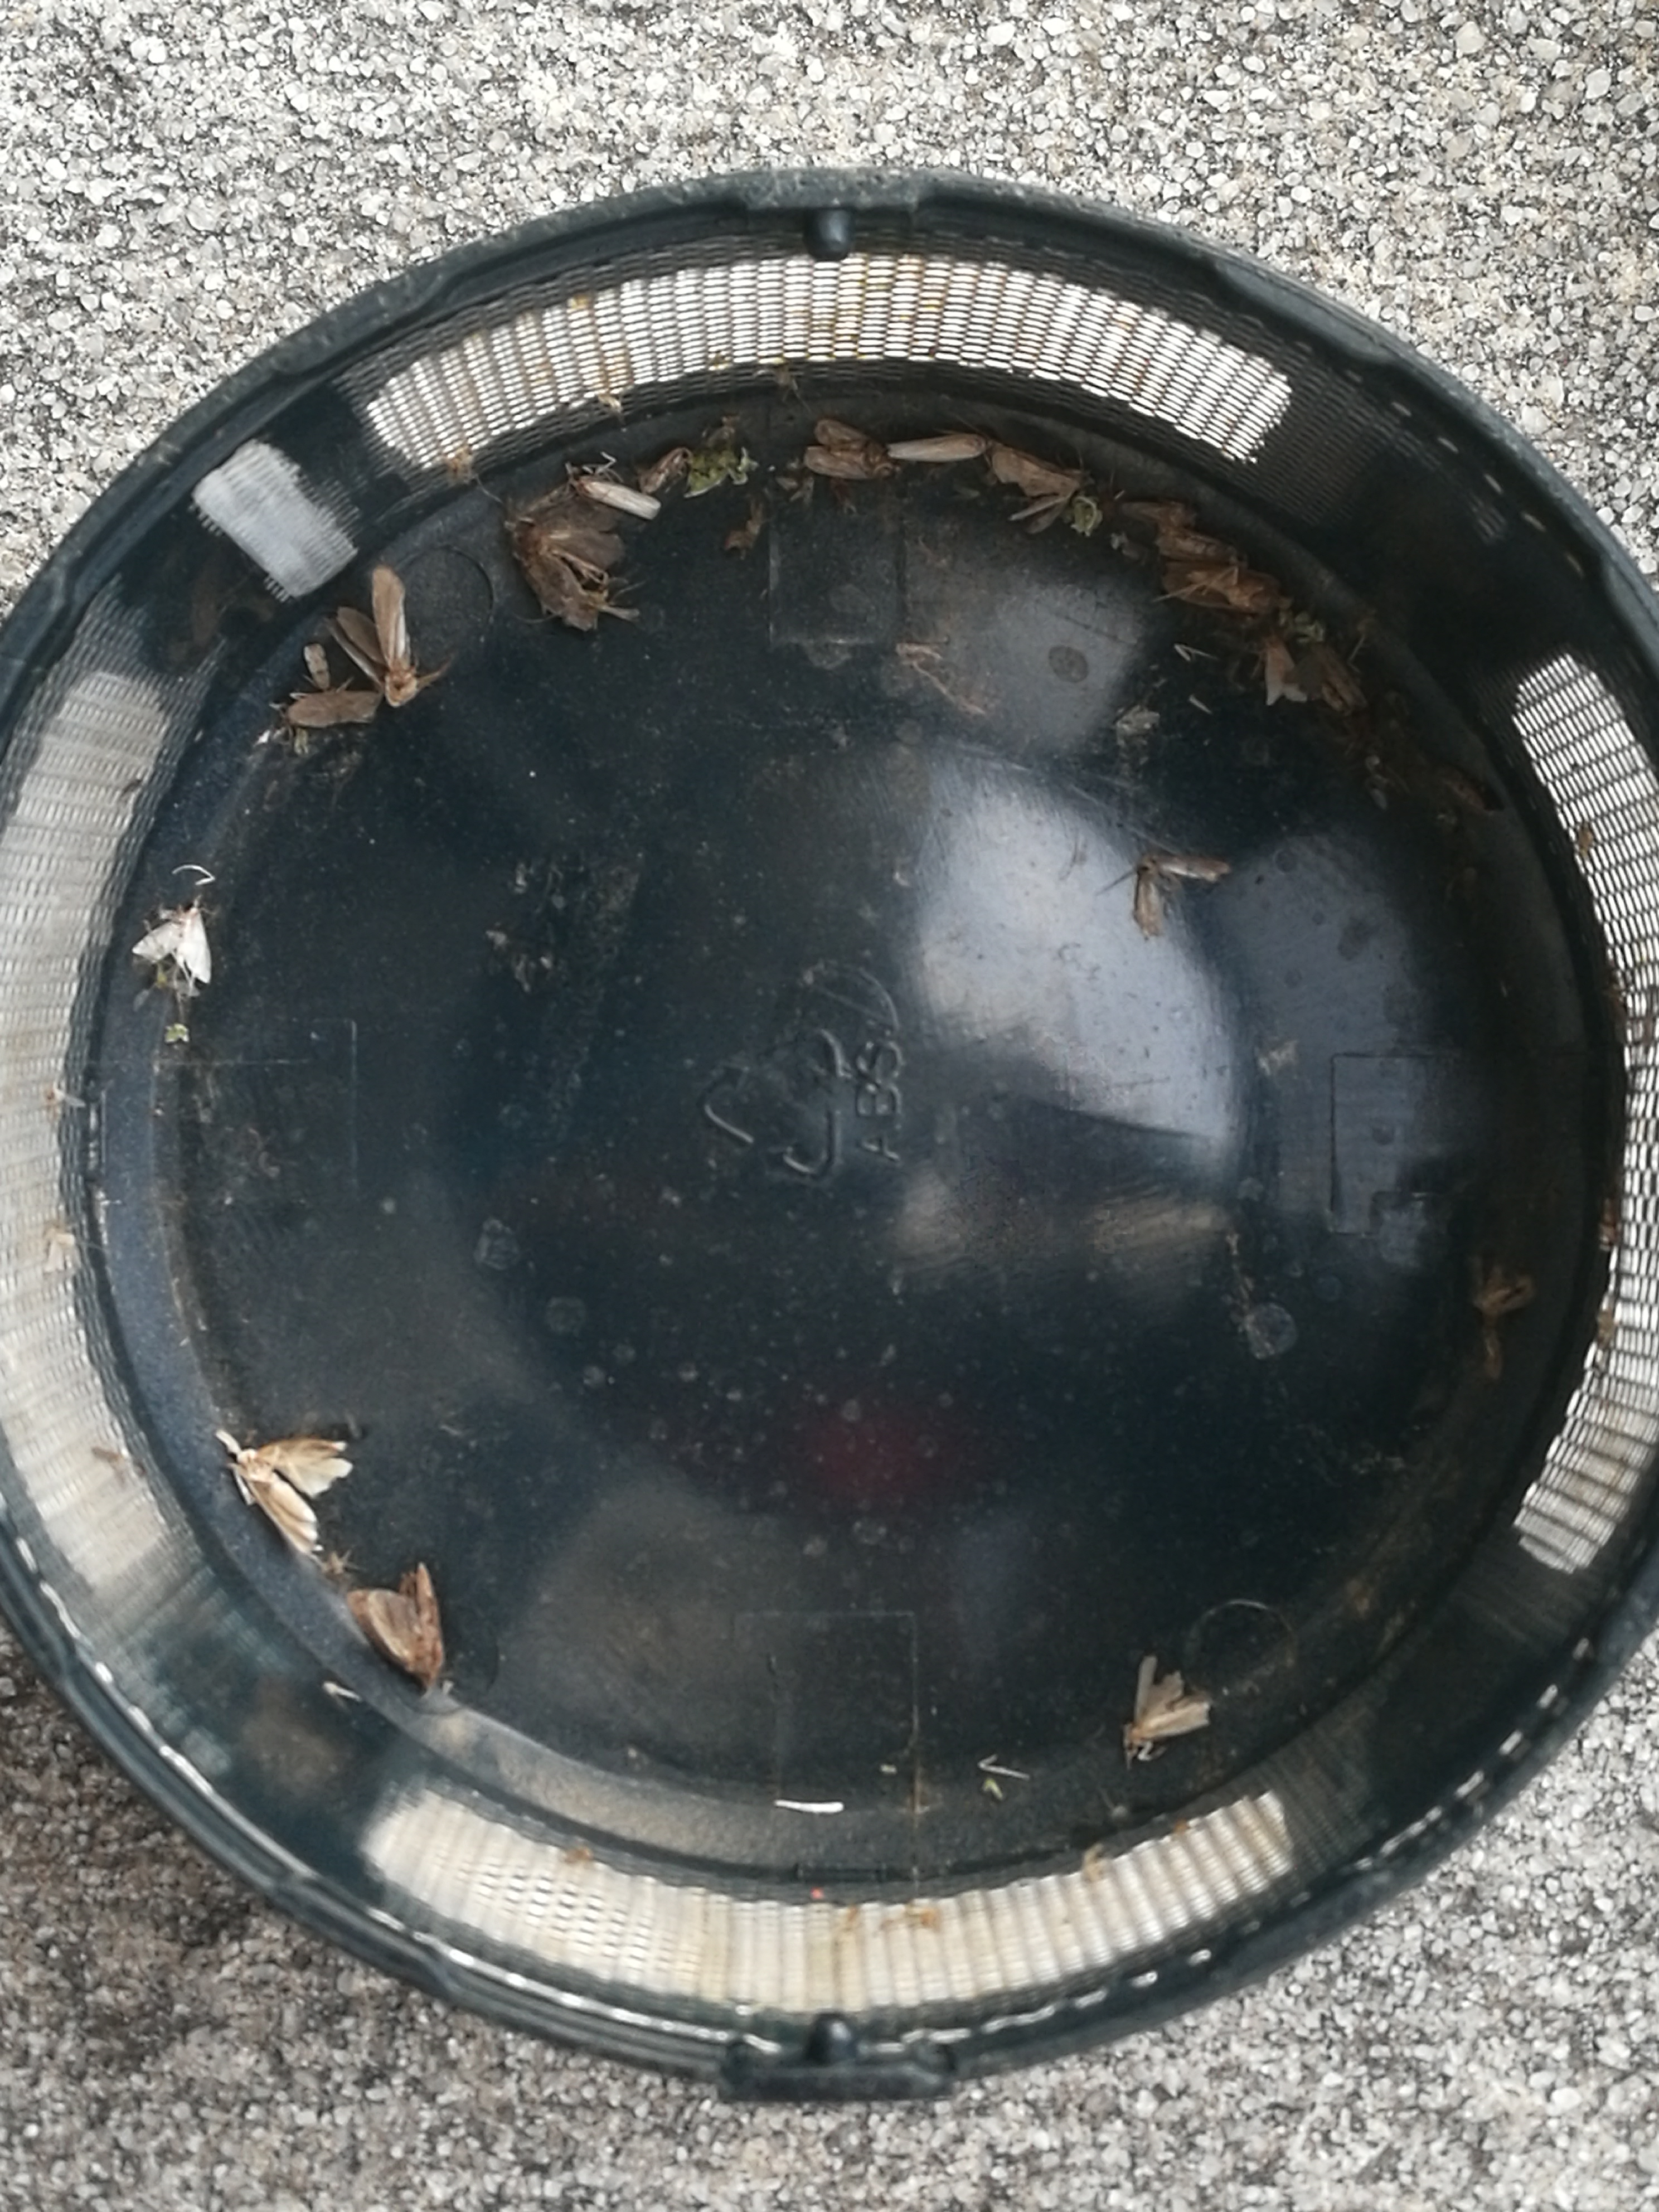mosquito: (1162, 563, 1293, 611), (565, 469, 660, 519), (1310, 624, 1363, 711), (1155, 524, 1246, 563), (284, 693, 378, 728), (643, 449, 692, 493), (1121, 500, 1195, 528)
moth: (216, 1428, 354, 1552), (514, 510, 624, 631), (352, 1562, 444, 1683), (340, 566, 416, 707), (992, 444, 1094, 533), (1466, 1252, 1534, 1379), (1121, 1656, 1211, 1750), (1134, 853, 1230, 937), (131, 897, 213, 984), (803, 420, 906, 479), (1265, 634, 1307, 705)
